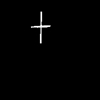single_crochet: (34, 12, 49, 42)
